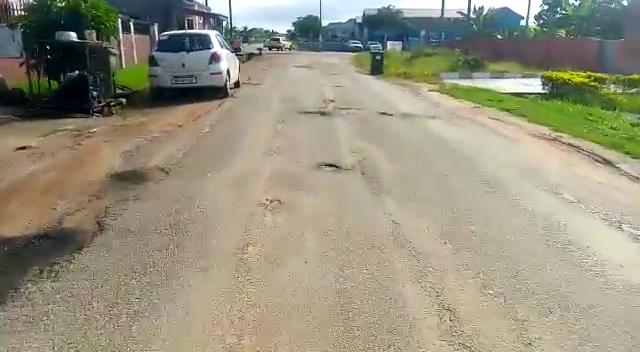pothole: (317, 164, 347, 173)
